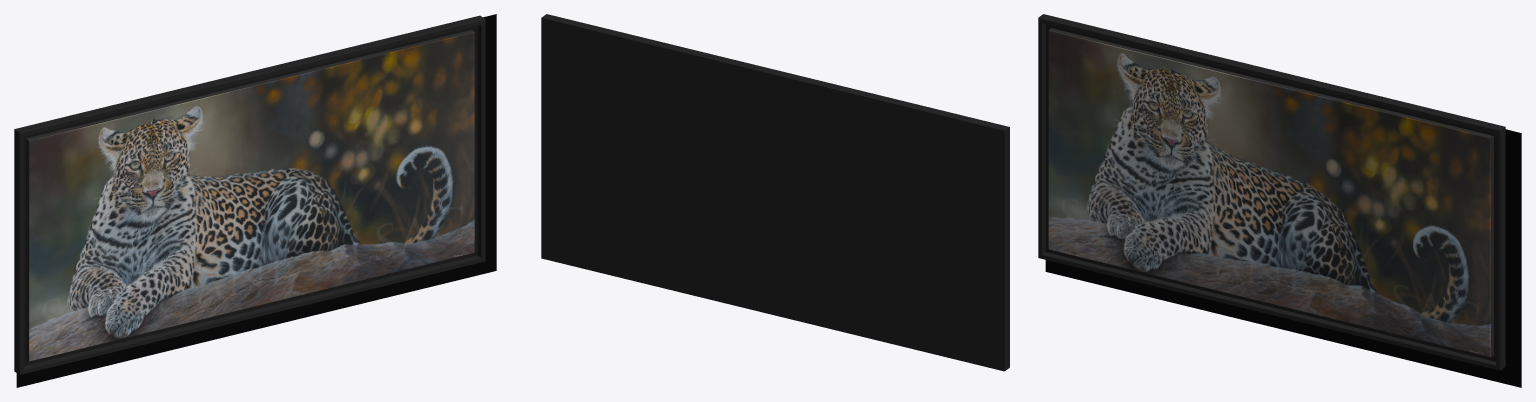
Rendered from tableau-leopard-geant-75bcfb7e.glb.
The picture shows the model from 3 angles, left to right: view 1: azimuth 30°, elevation 25°; view 2: azimuth 150°, elevation 25°; view 3: azimuth 330°, elevation 25°; orthographic projection.
Parts seen in each view (by area): view 1: Painting; view 2: Painting; view 3: Painting.
Boxes of the visible parts, x1,y1,x2,y2 form: Painting: (14, 14, 496, 387); Painting: (541, 14, 1009, 371); Painting: (1038, 14, 1521, 387).
Bounding box in the file's own units: 2.06 × 1.06 × 0.04.
Materials: 5 (3 with a texture image).
